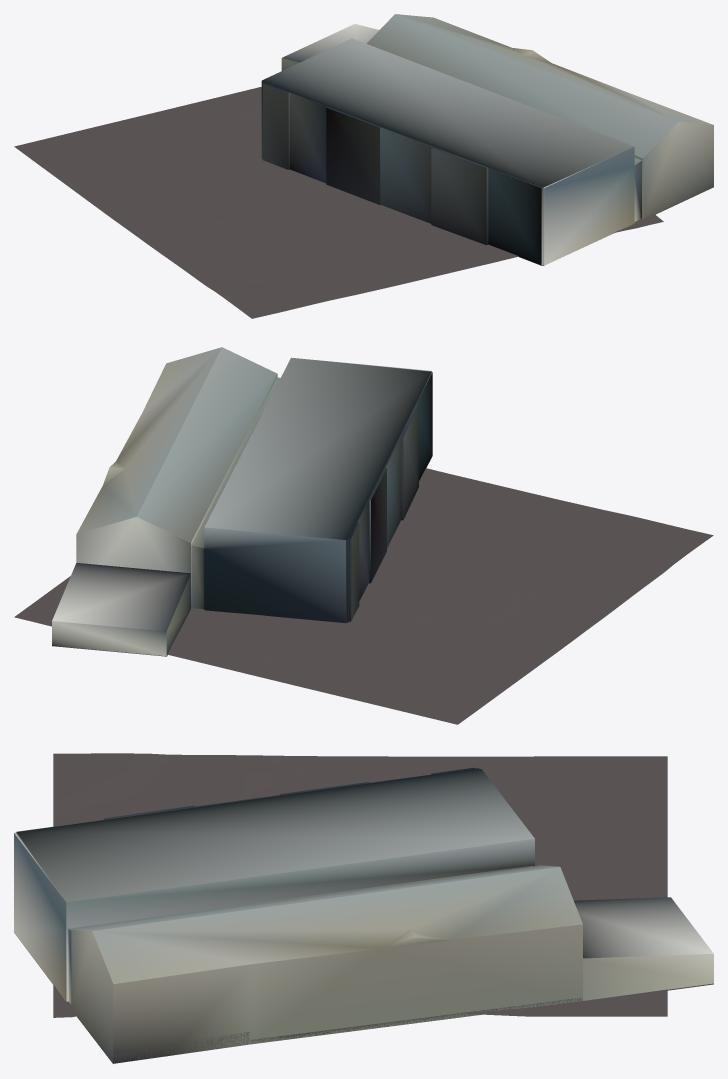
3 views of the same model, one above another, from view 1: azimuth 30°, elevation 25°; view 2: azimuth 150°, elevation 25°; view 3: azimuth 270°, elevation 25° (orthographic). The views are drawn at different scales.
Parts seen in each view (by area): view 1: c_m11_p10; view 2: c_m11_p10; view 3: c_m11_p10.
Boxes of the visible parts, x1,y1,x2,y2 form: c_m11_p10: (14,14,713,318); c_m11_p10: (14,347,713,724); c_m11_p10: (14,753,713,1063).
Bounding box in the file's own units: 151 × 24.44 × 146.
